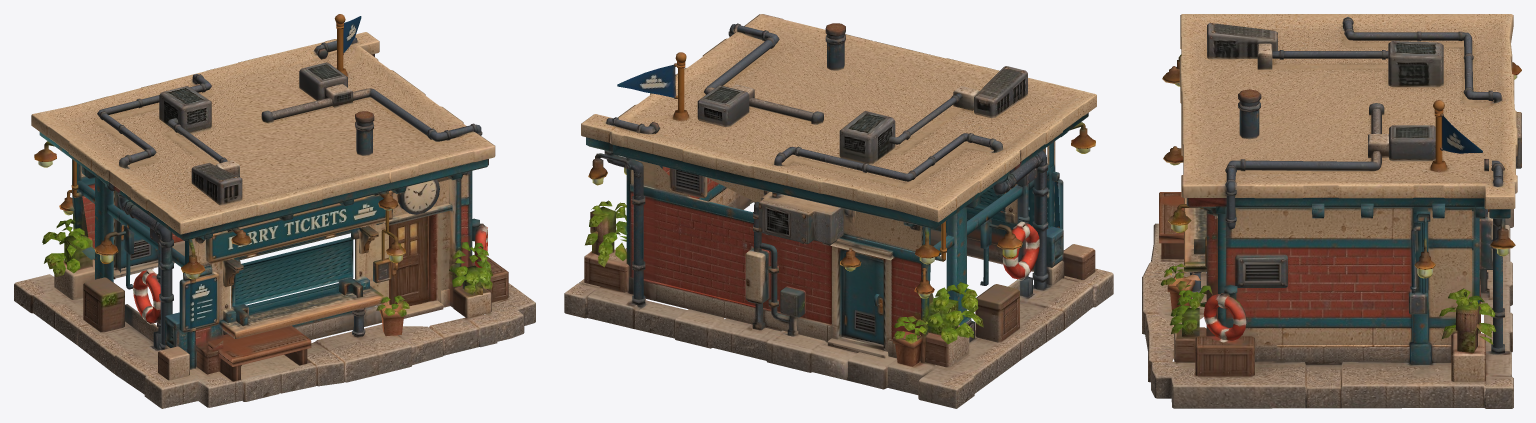
File: ferry-booth.glb
3 views of the same model, side by side, from view 1: azimuth 30°, elevation 25°; view 2: azimuth 150°, elevation 25°; view 3: azimuth 270°, elevation 25° (orthographic). The views are drawn at different scales.
Parts seen in each view (by area): view 1: tripo_node_343fb40e-ba9a-4abc-a971-a38a46c5b27f; view 2: tripo_node_343fb40e-ba9a-4abc-a971-a38a46c5b27f; view 3: tripo_node_343fb40e-ba9a-4abc-a971-a38a46c5b27f.
Part boxes in pixels (x1,y1,x2,y2): tripo_node_343fb40e-ba9a-4abc-a971-a38a46c5b27f: (14,14,535,408); tripo_node_343fb40e-ba9a-4abc-a971-a38a46c5b27f: (564,14,1113,408); tripo_node_343fb40e-ba9a-4abc-a971-a38a46c5b27f: (1142,14,1521,408).
Bounding box in the file's own units: 0.9995 × 0.6187 × 0.7974.
1 material, 1 textured.
